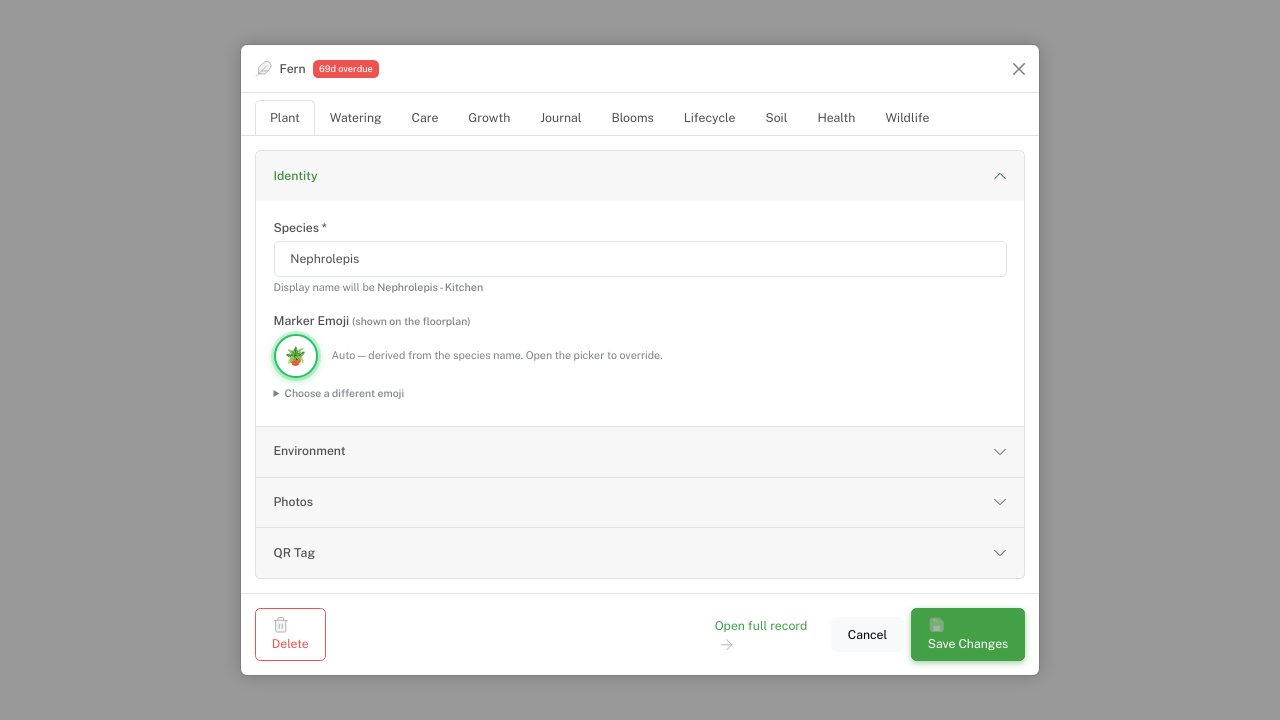
Test: PlantModal › requires confirmation before deleting — first click opens confirmation dialog
What coordinates should you click on to do the following:
click the button "Delete"
I would click on:
 (290, 635)
Its box is [255,608,326,661].
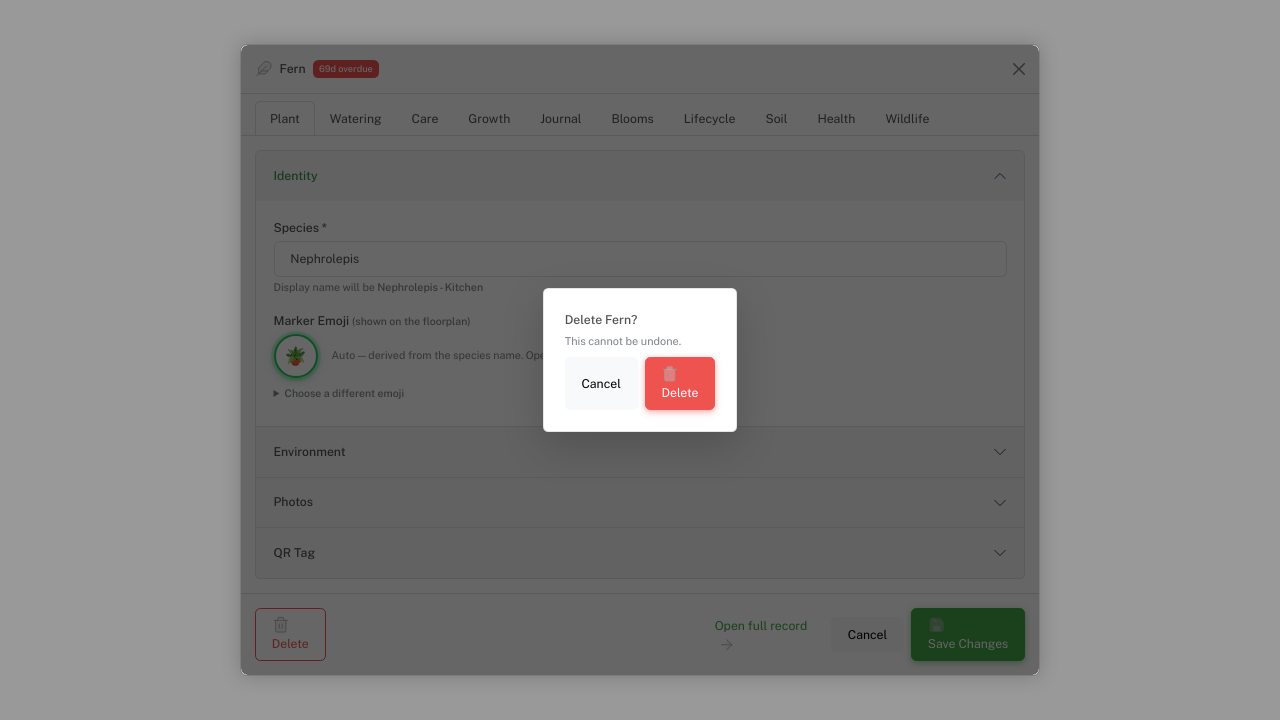
expect the text "This cannot be undone." is shown: met, box [565,335,681,347]
